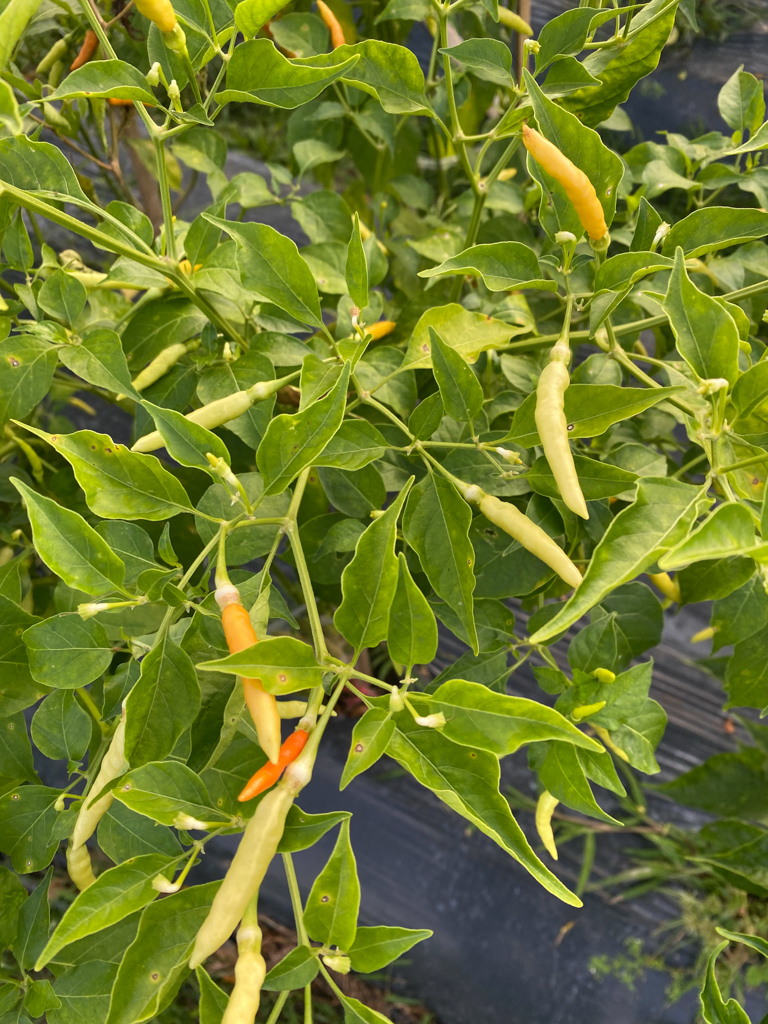frog-eye leafspot: (85, 437, 120, 459), (7, 352, 22, 373), (544, 189, 556, 211), (274, 669, 289, 686), (144, 969, 161, 983), (318, 891, 333, 906), (352, 740, 366, 755), (465, 749, 480, 763), (602, 184, 615, 199), (8, 791, 24, 803), (749, 473, 761, 489), (213, 796, 227, 809), (121, 780, 134, 793), (23, 856, 36, 869), (307, 471, 317, 486), (420, 341, 430, 354), (566, 422, 574, 431)
